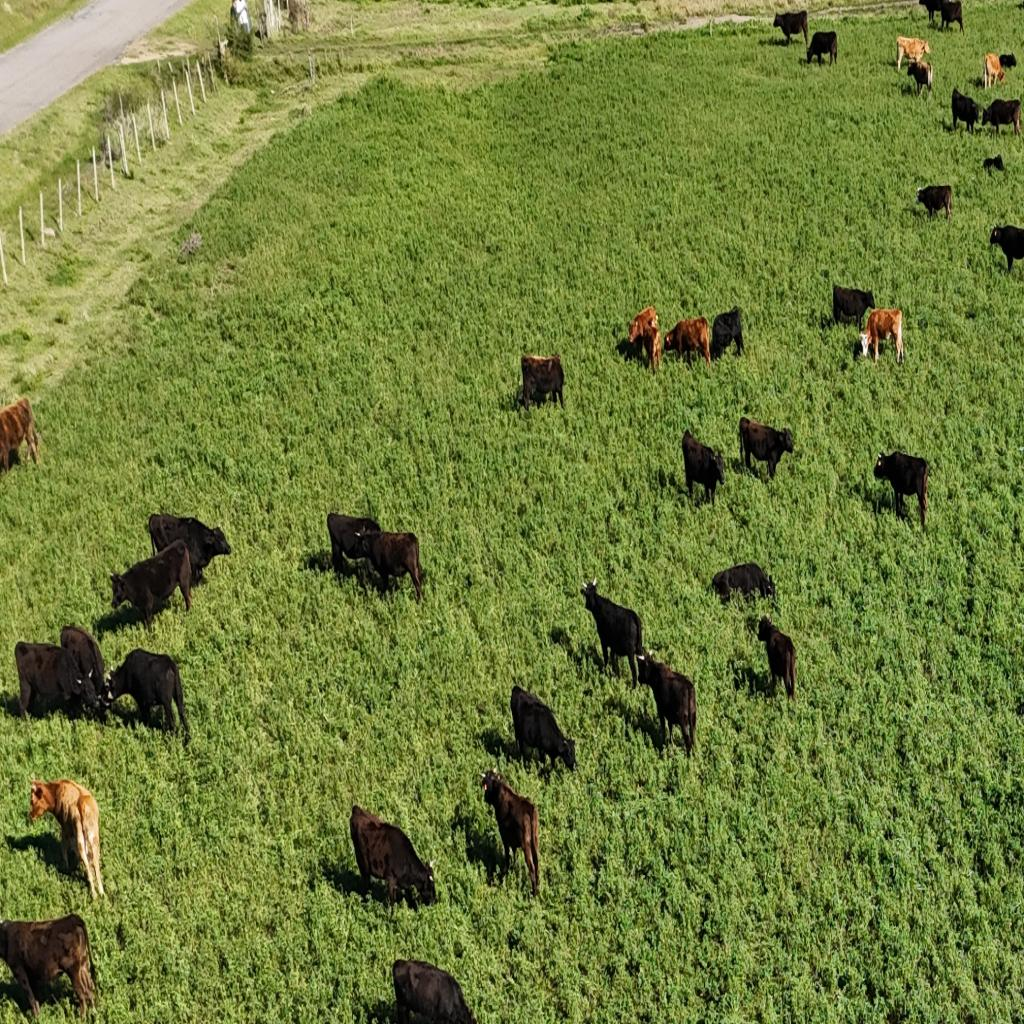cow: (1, 912, 99, 1024), (347, 804, 438, 914), (28, 776, 106, 898), (626, 642, 708, 754), (13, 637, 105, 725), (480, 770, 542, 898), (105, 648, 191, 740), (109, 539, 193, 633), (629, 302, 737, 375), (899, 4, 969, 102), (582, 579, 644, 686), (148, 514, 233, 586), (391, 956, 477, 1024), (358, 523, 428, 604), (510, 684, 574, 772), (503, 338, 578, 408), (846, 291, 908, 364), (874, 450, 929, 530), (947, 87, 1021, 142), (327, 512, 385, 582), (769, 11, 835, 69), (738, 418, 795, 482), (757, 617, 798, 700), (0, 394, 40, 476), (680, 430, 724, 503), (711, 562, 775, 607), (60, 624, 101, 684), (627, 305, 660, 372), (833, 284, 875, 329), (989, 223, 1024, 273), (918, 182, 954, 220), (775, 8, 808, 45), (896, 35, 932, 65), (908, 60, 933, 100), (983, 52, 1007, 90), (938, 0, 964, 34), (622, 332, 645, 364), (920, 0, 944, 26), (896, 36, 908, 70), (983, 156, 1004, 174), (1000, 53, 1017, 69)
